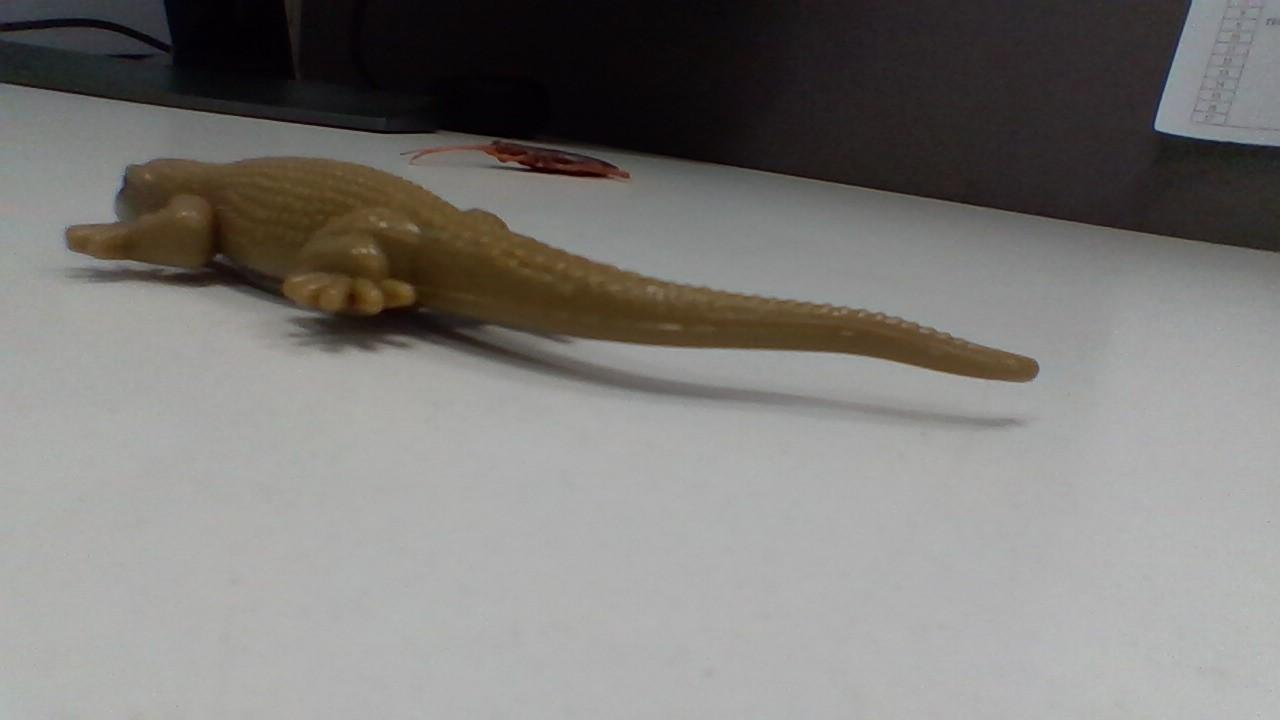lizard: (60, 140, 1040, 386)
